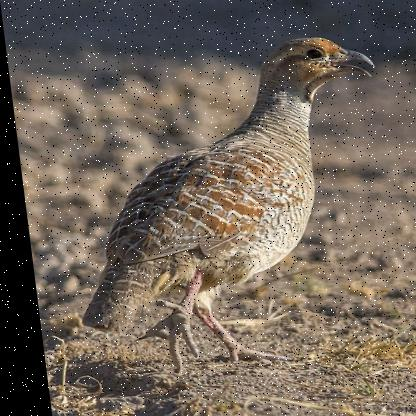Burung: (45, 36, 404, 374)
